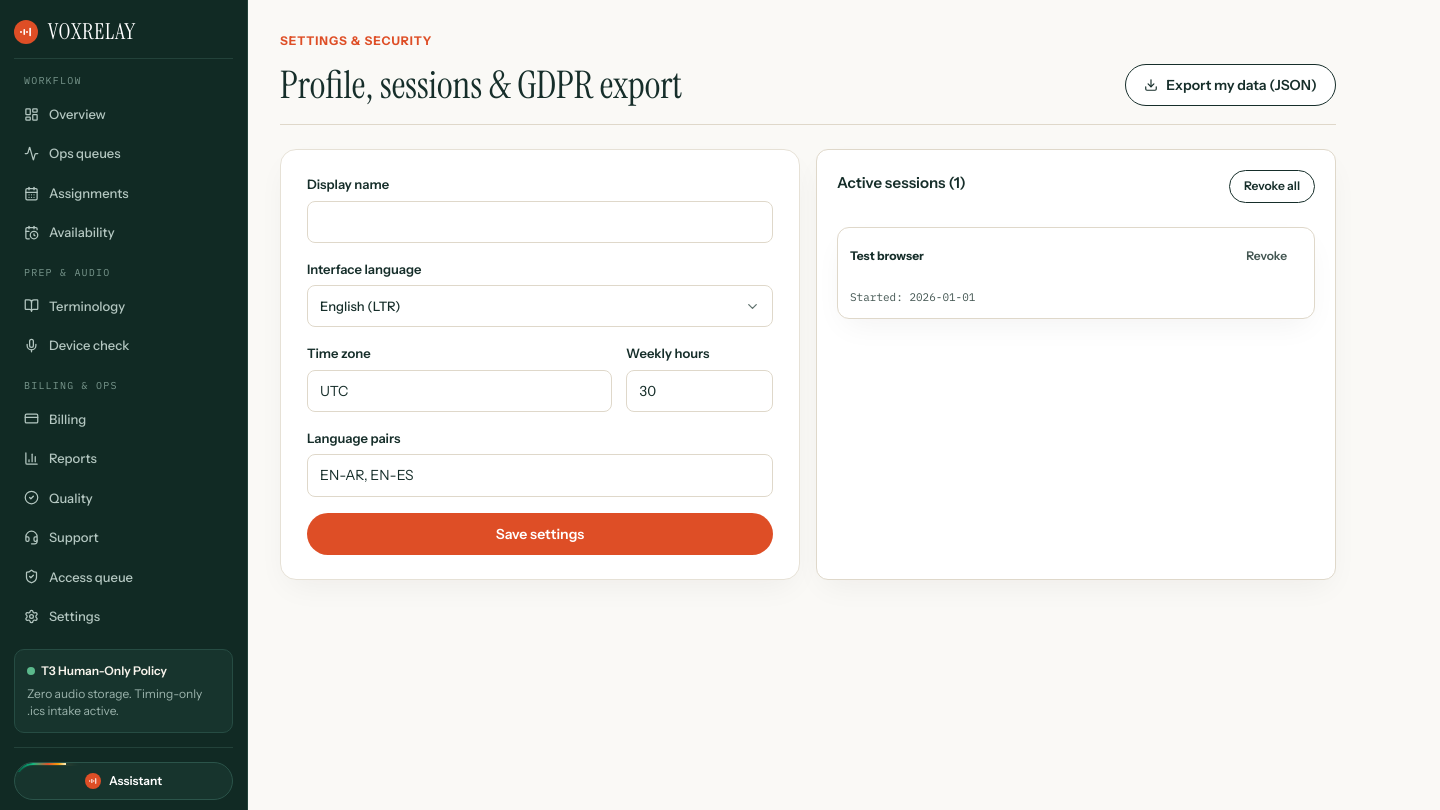
shows a retry notice on revoke-all http failure
Step 1. Click the button "Revoke all" → [1272, 186], box [1229,170,1315,203]
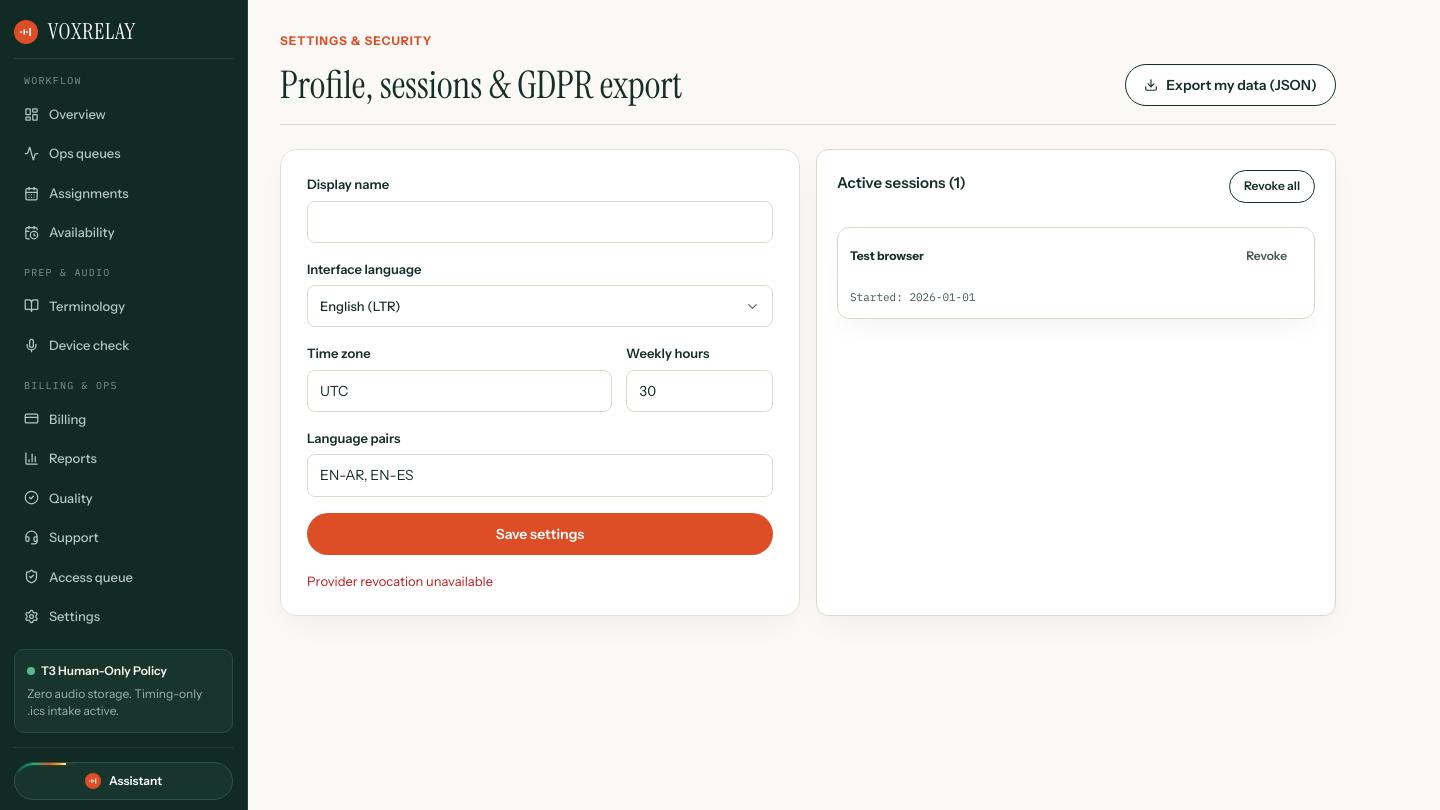
Expected: the text "Provider revocation unavailable" is shown, [307,573,493,589]
